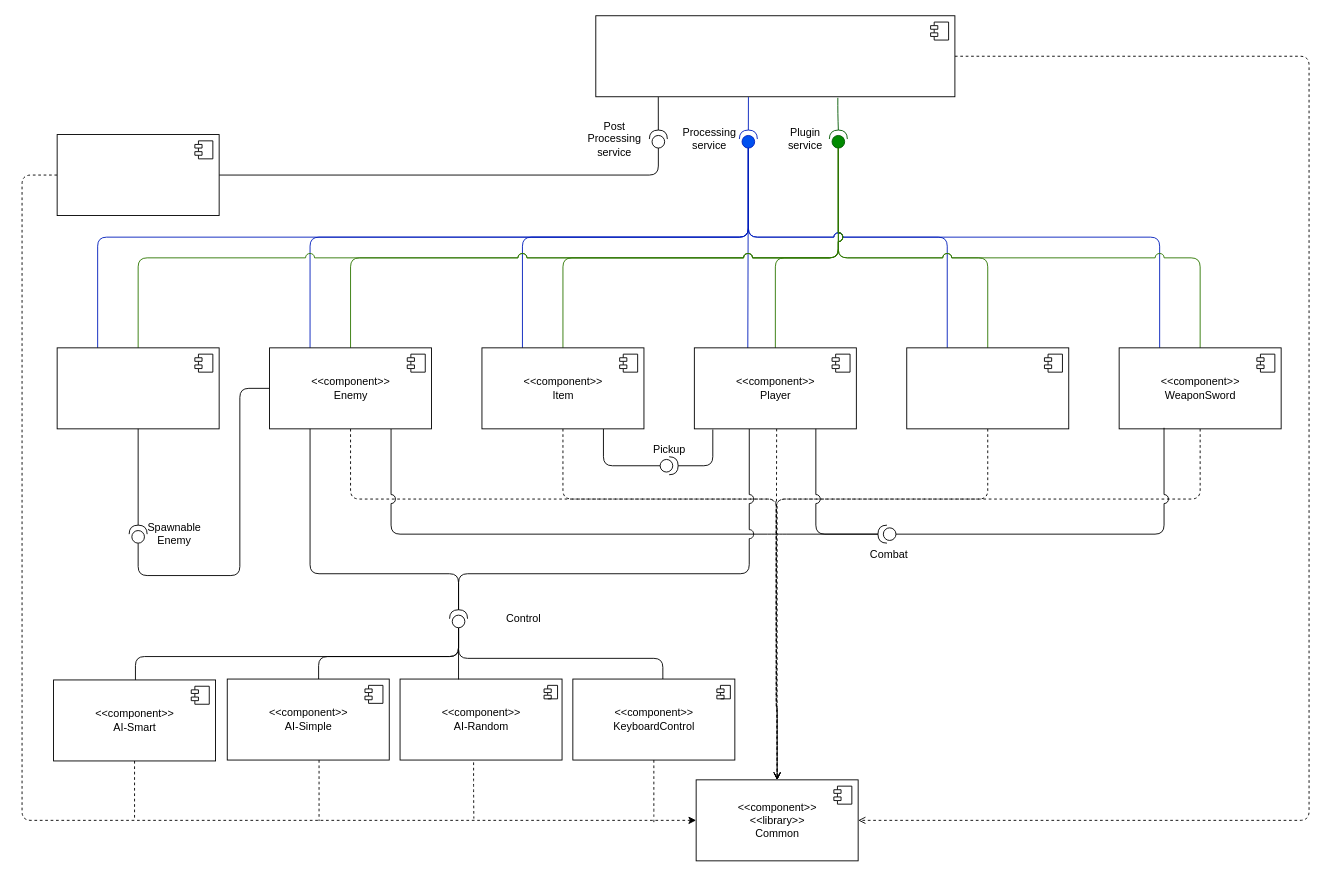
Image size: 1332x877. Some labels were removed from this diagram. The shapes that lost their labels are listed below. From the top down, each one's centre as x and y in pixels, then its label:
the point at 775,56: Core
the point at 137,175: <<component>> Collision
the point at 137,388: <<component>> EnemySpawner
the point at 987,388: <<component>> World
